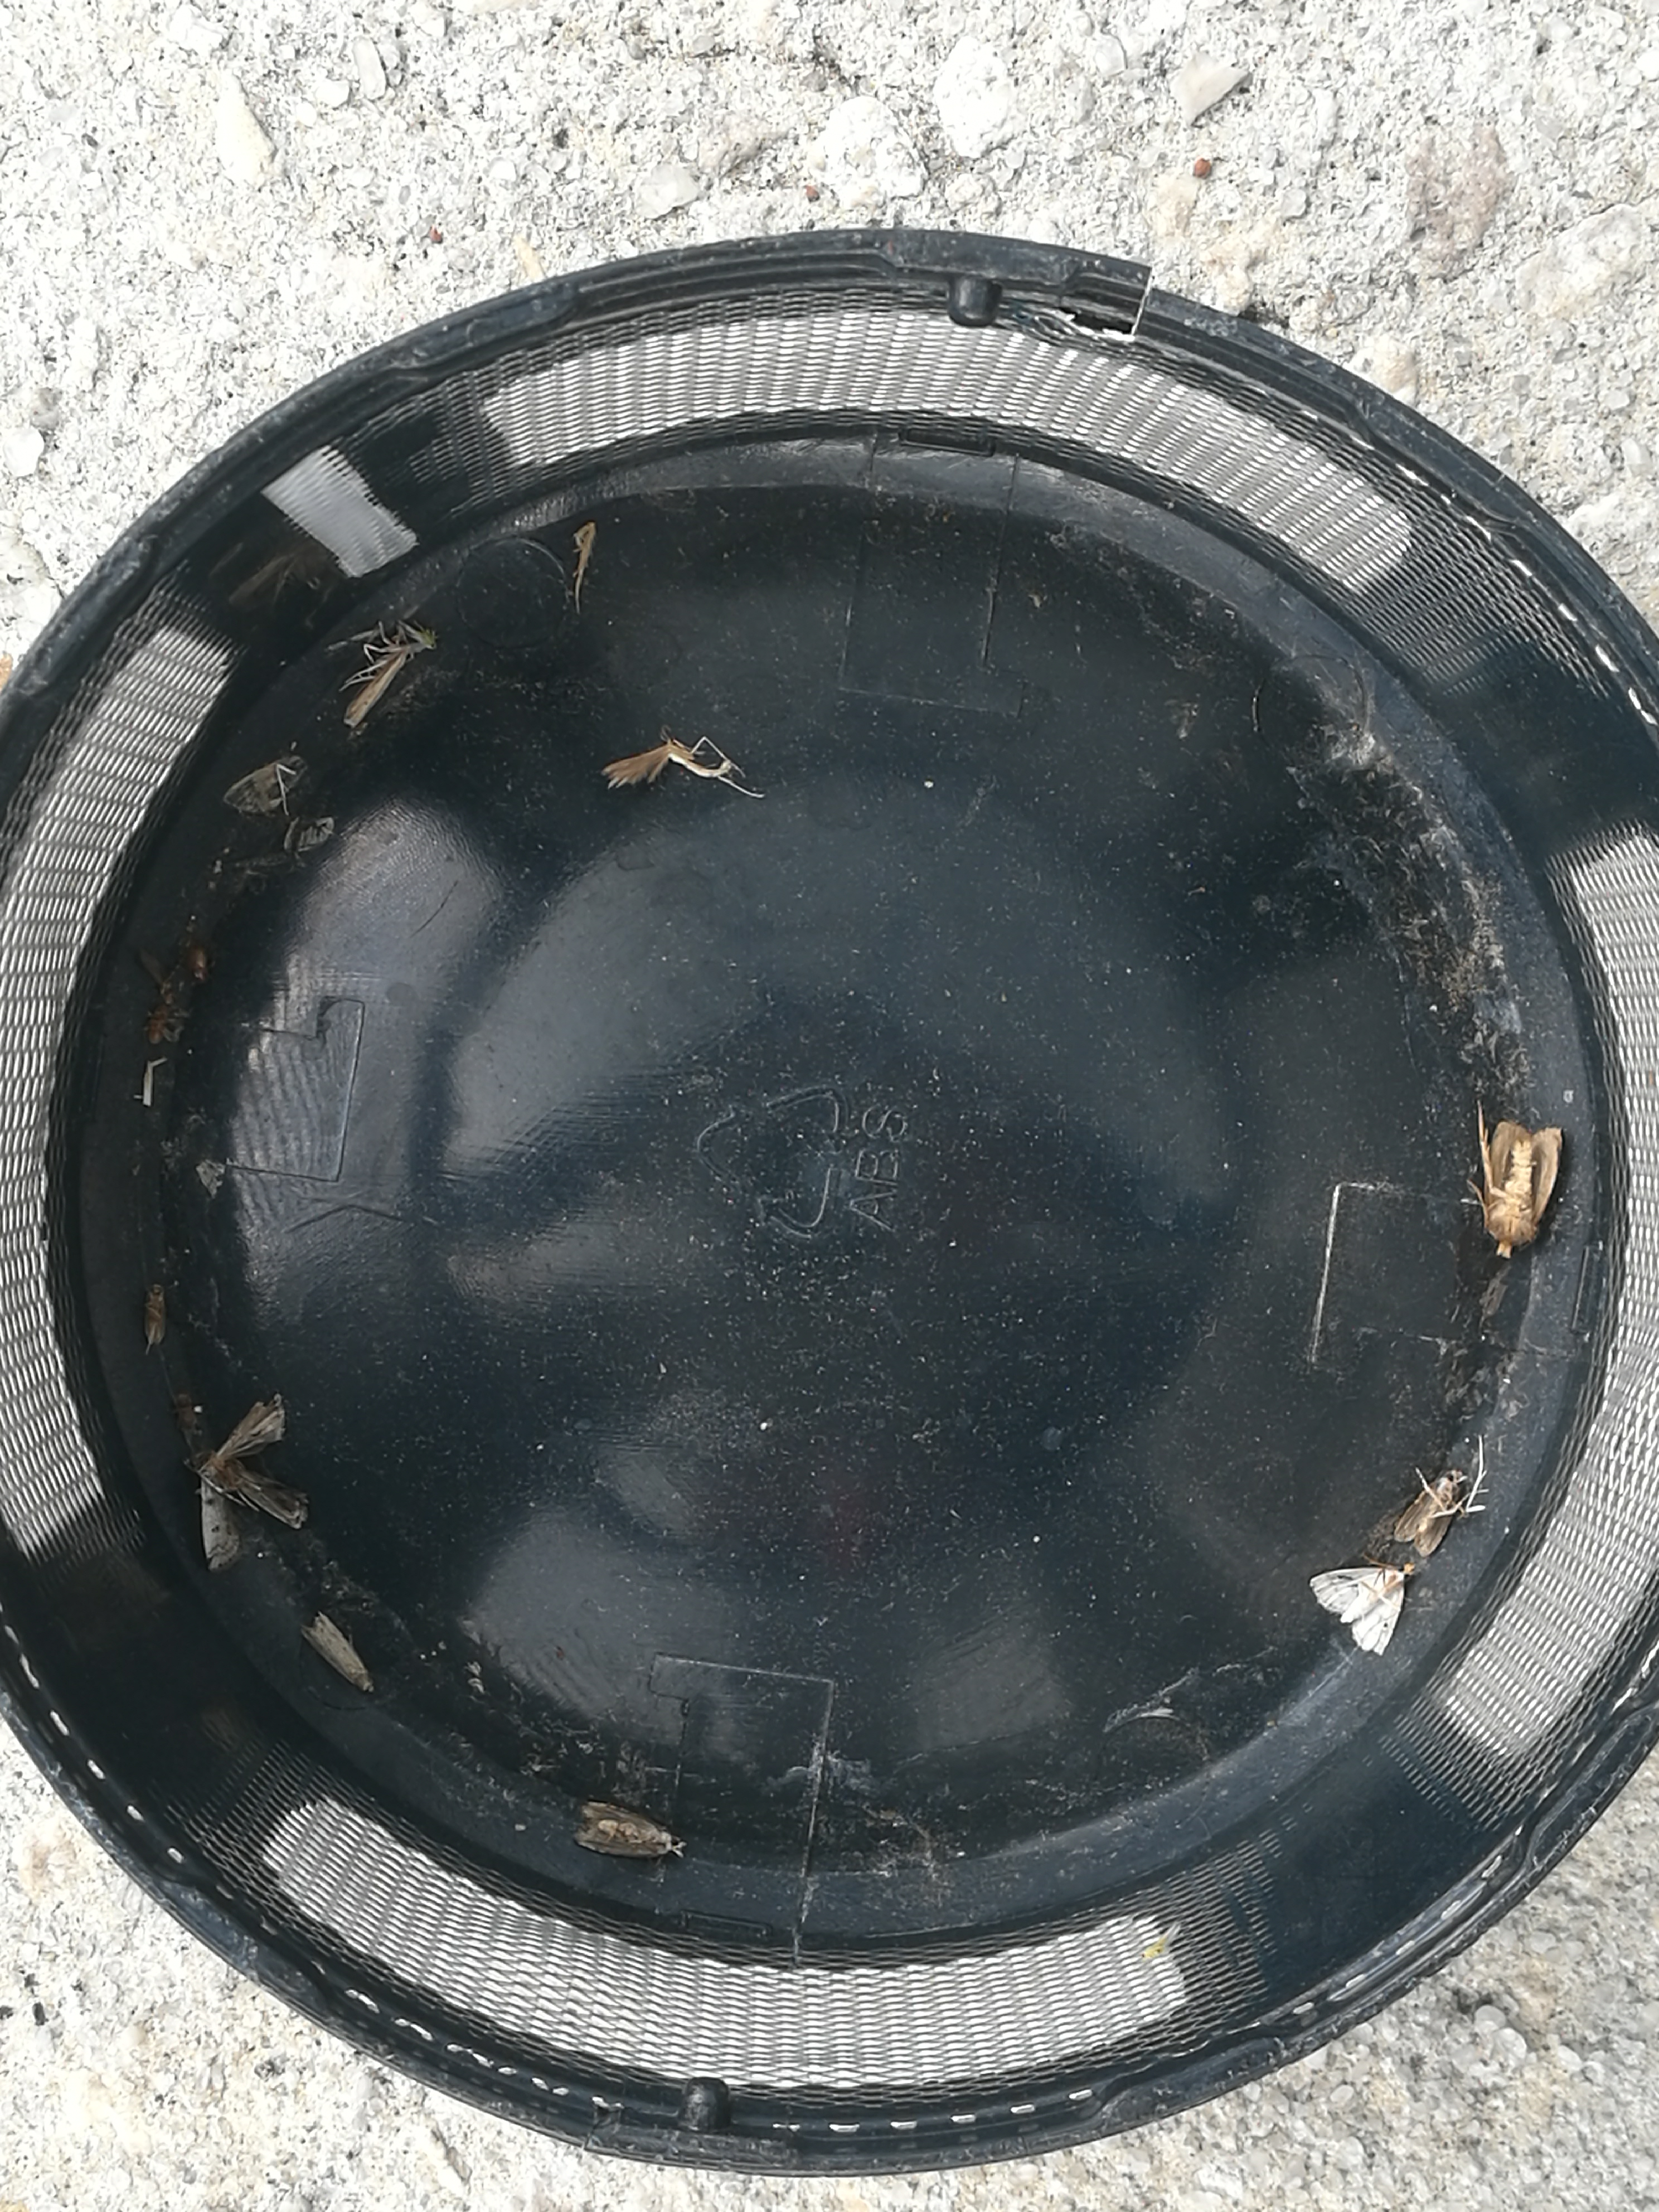mosquito: (300, 1611, 373, 1695), (342, 639, 411, 725), (141, 1282, 167, 1346)
moth: (202, 1397, 308, 1571), (1476, 1118, 1561, 1252), (1309, 1568, 1417, 1656), (1392, 1468, 1464, 1552), (573, 1804, 673, 1858)
